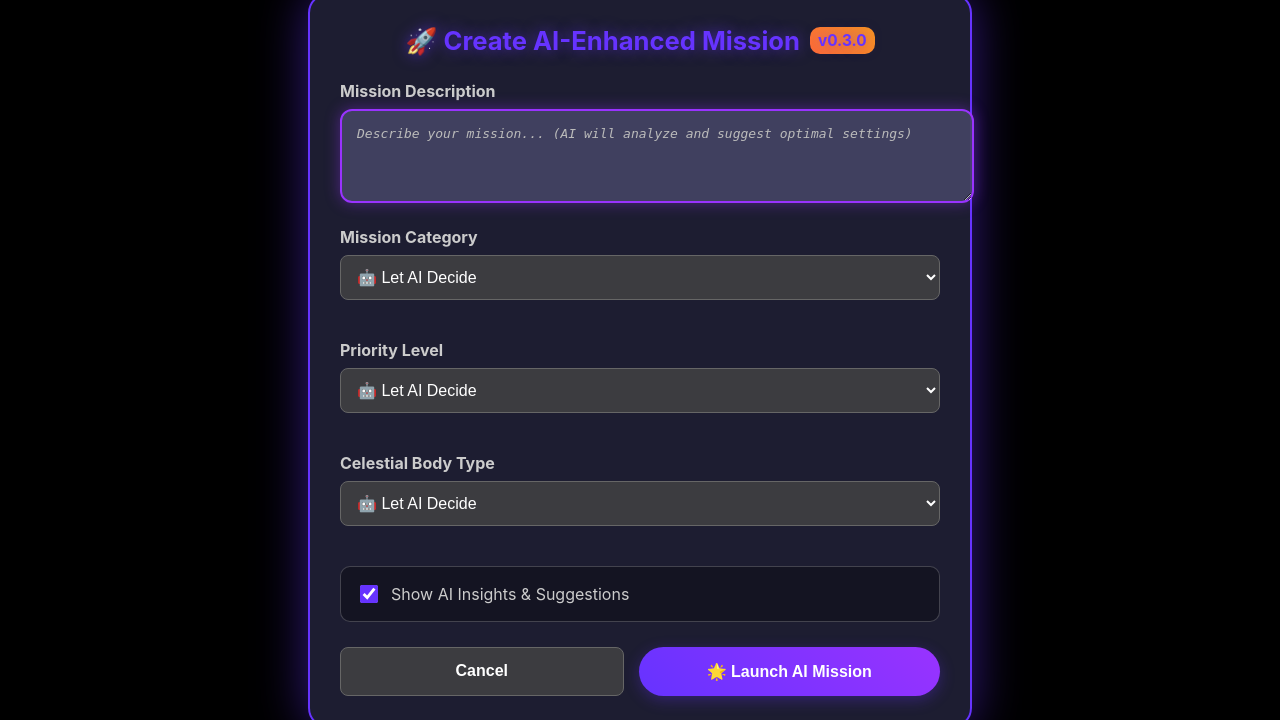
it: AITodoForm › shows AI predictions with correct values
Step 1. Replace the text in the text box labelled "Mission Description" with "Important work task" → x=657, y=156, box [340,108,974,202]
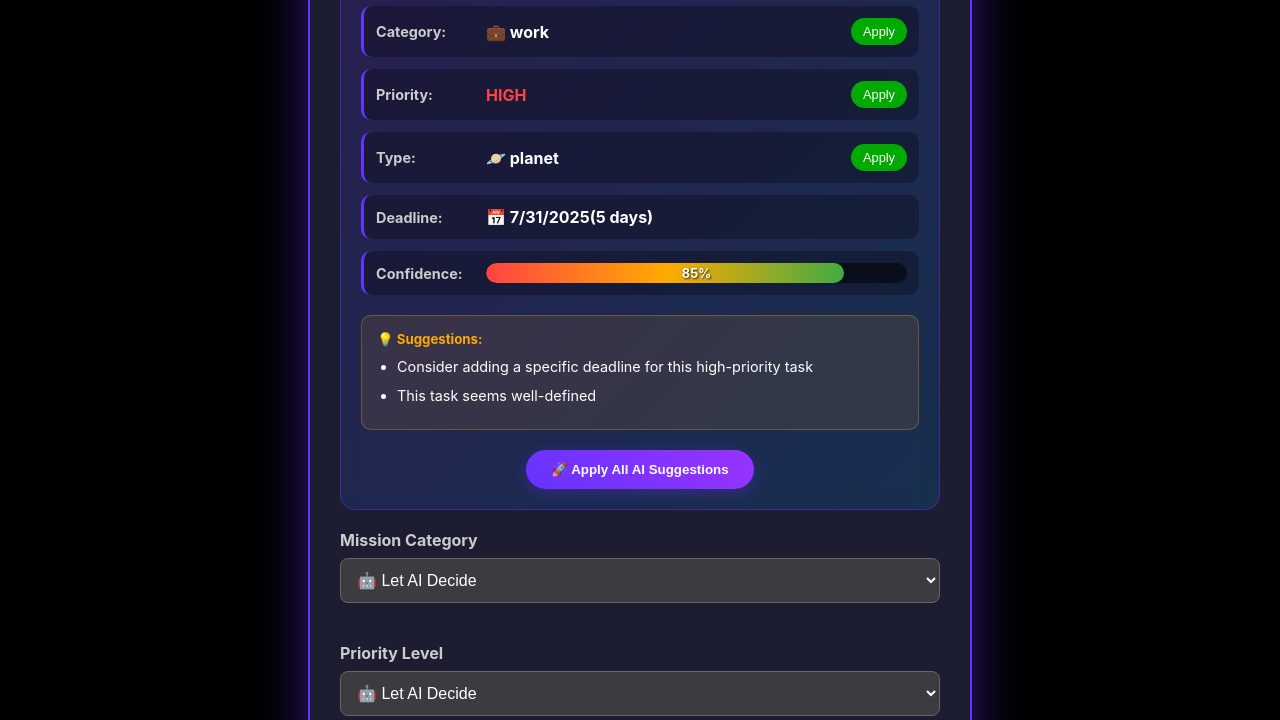
Expected: the text "💼 work" is shown, [486,22,549,42]
Expected: the text "HIGH" is shown, [486,85,526,105]
Expected: the text "🪐 planet" is shown, [486,148,559,168]
